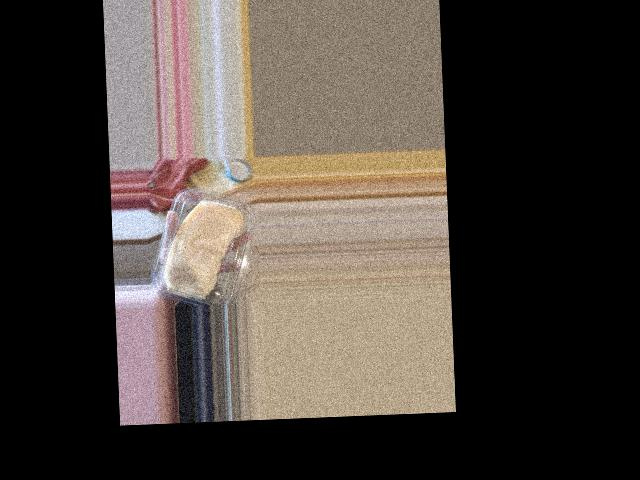cheese: (154, 183, 256, 308)
